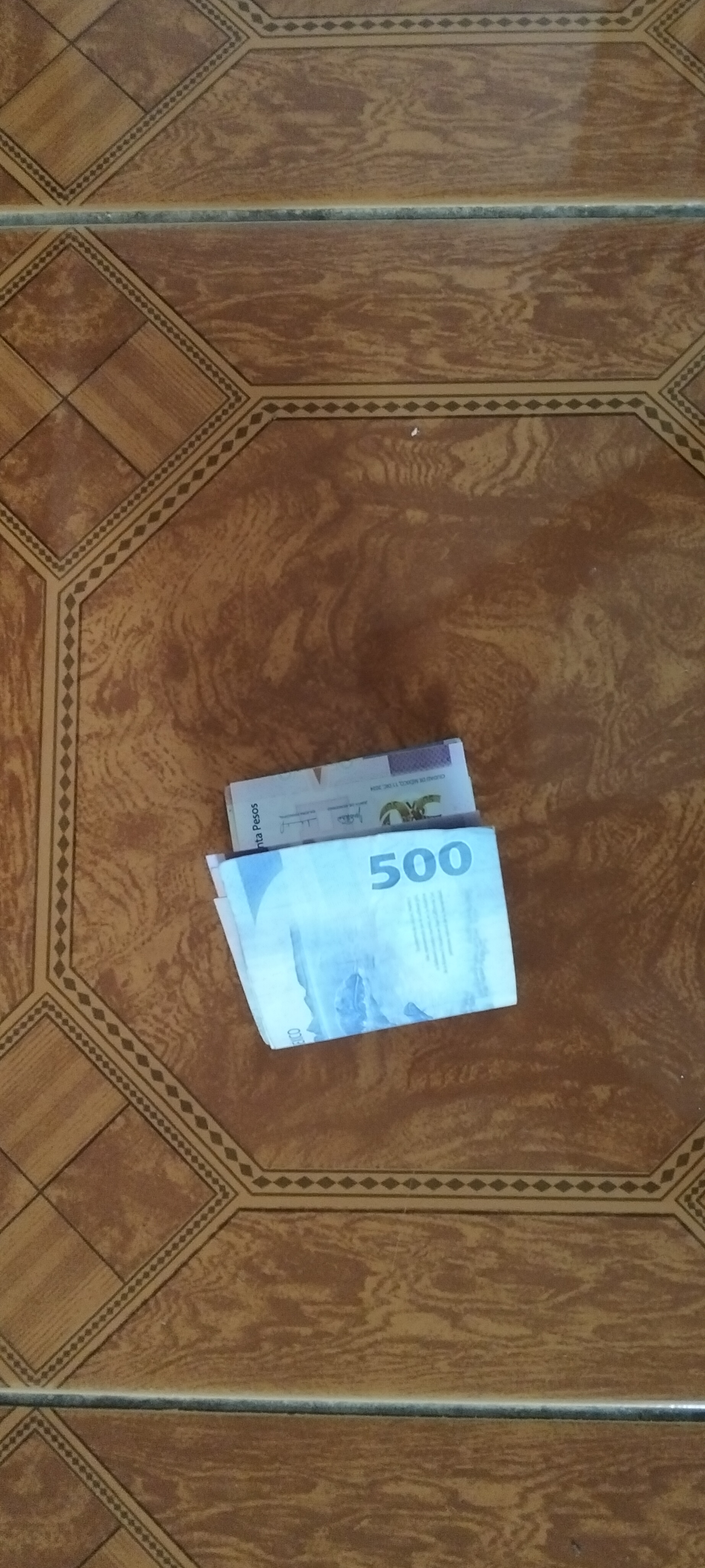billetes: (177, 729, 549, 1057)
